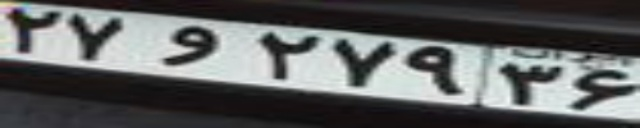2: (257, 30, 323, 80), (4, 8, 59, 53)
3: (496, 62, 564, 106)
6: (569, 66, 637, 113)
7: (332, 37, 396, 86), (65, 13, 125, 63)
9: (405, 44, 459, 96)
vav: (157, 23, 221, 65)
